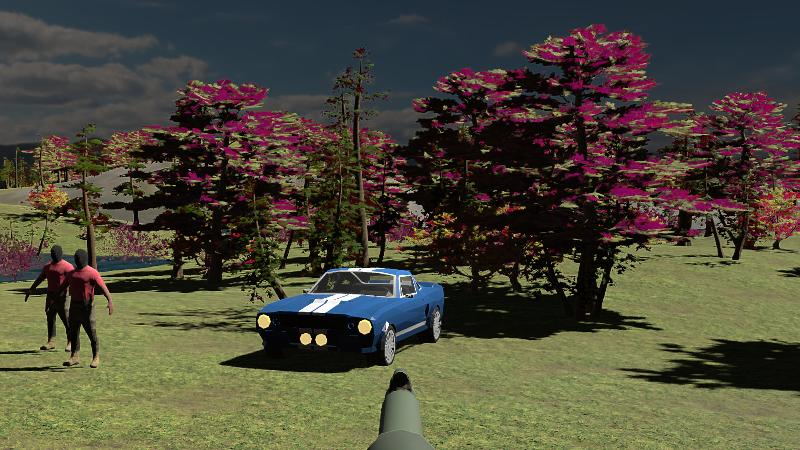Human: (57, 250, 113, 368), (25, 246, 81, 351)
car: (257, 266, 445, 366)
